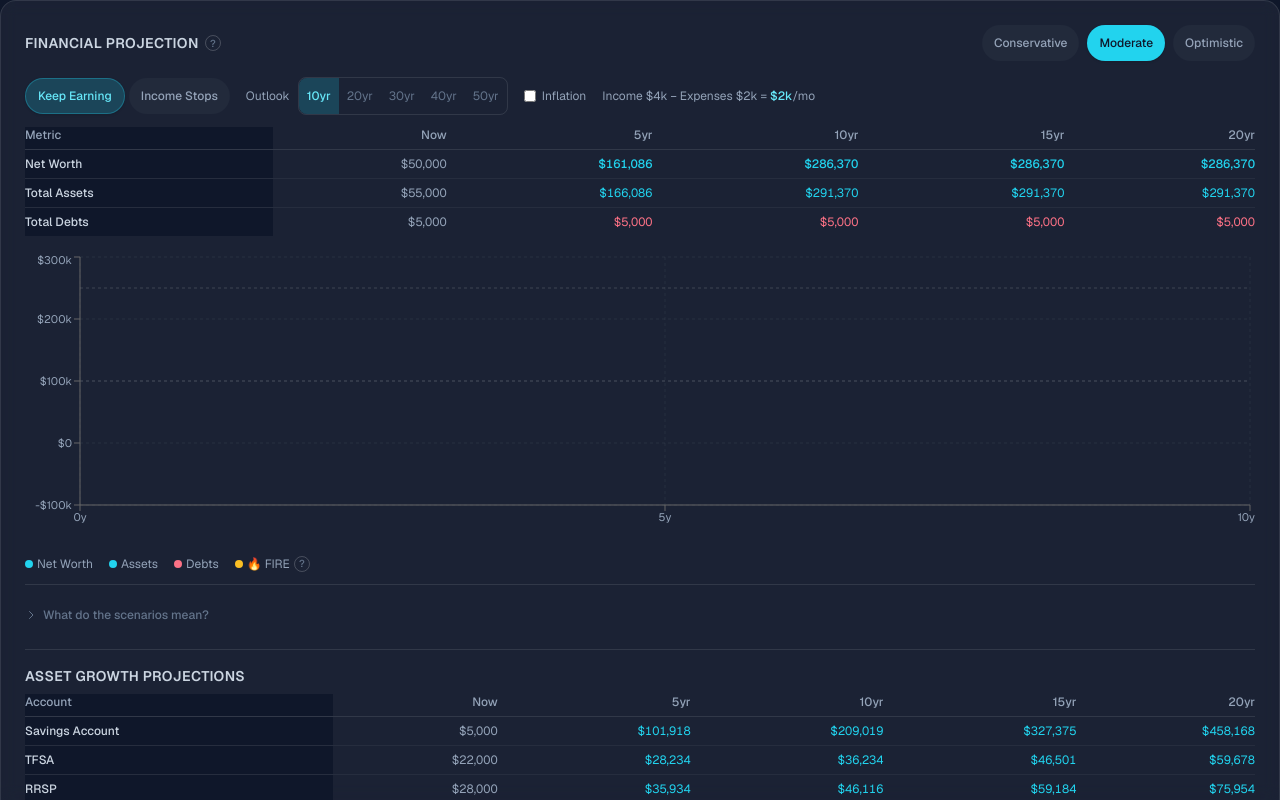
Test: 50-year unified chart › burndown chart uses year-based X-axis data
The image size is (1280, 800).
Step 1. Click the button with test id "mode-income-stops" → [179, 96], box [129, 78, 230, 114]
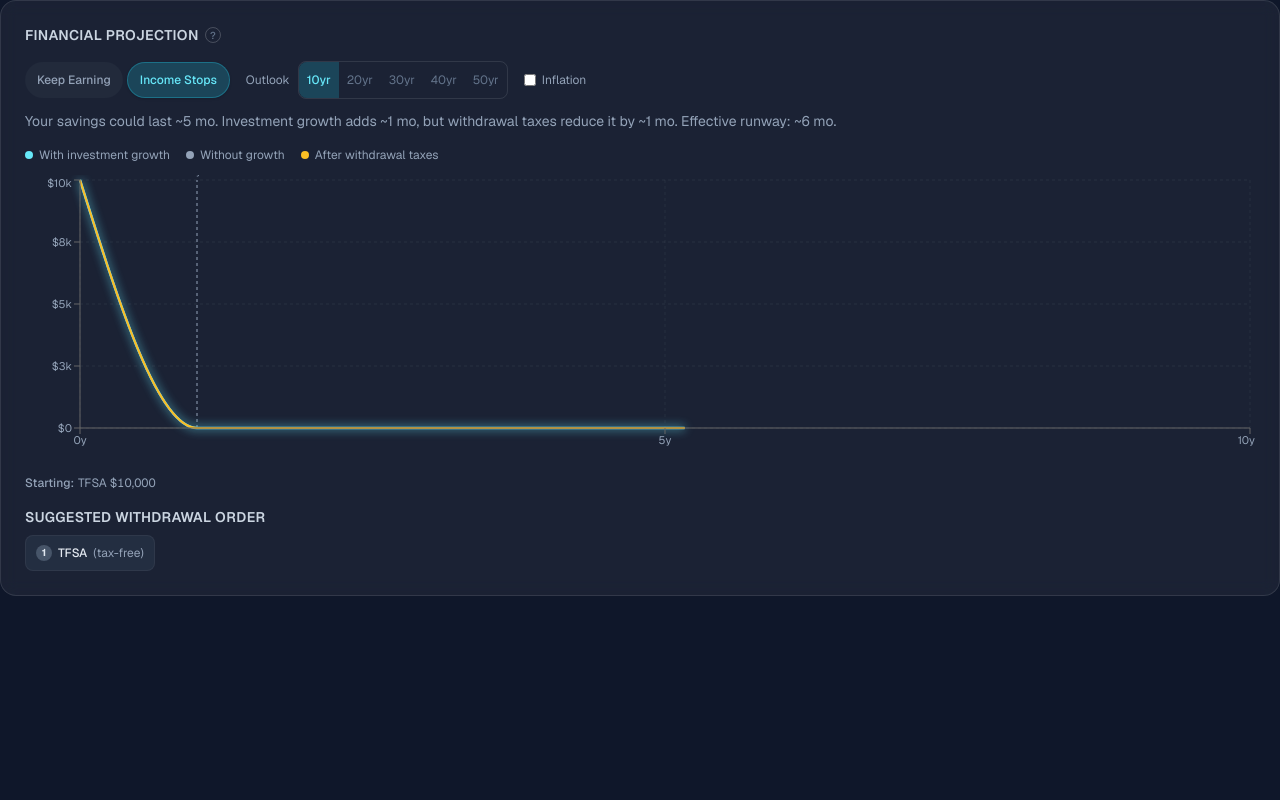
Now the element with test id "burndown-chart-container" is shown, box [25, 175, 1255, 463]
